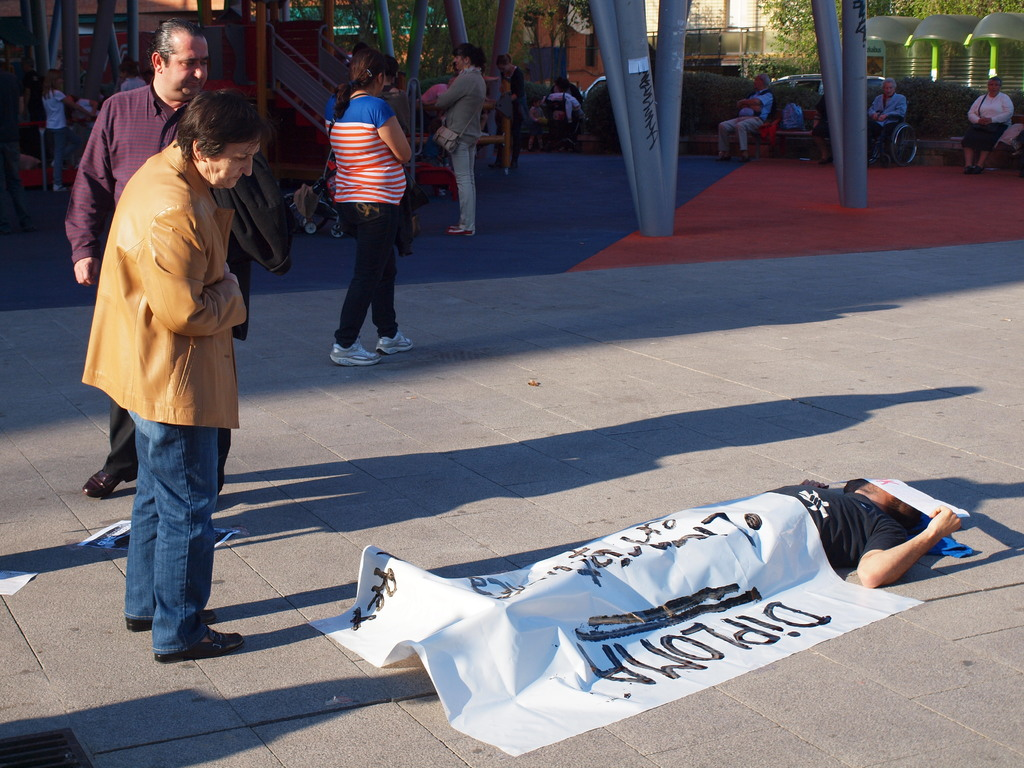Footwear: (147, 623, 243, 661), (122, 611, 216, 634), (78, 468, 131, 499), (321, 342, 381, 365), (374, 328, 412, 352), (446, 225, 472, 236), (881, 152, 892, 168), (49, 159, 66, 169), (49, 183, 68, 191), (738, 148, 748, 161), (17, 207, 28, 218), (870, 151, 883, 160), (488, 161, 502, 169), (971, 166, 983, 175), (964, 163, 972, 175), (402, 248, 412, 257), (712, 154, 728, 159), (823, 152, 831, 161), (510, 159, 516, 169), (71, 157, 79, 164), (529, 141, 532, 147)
